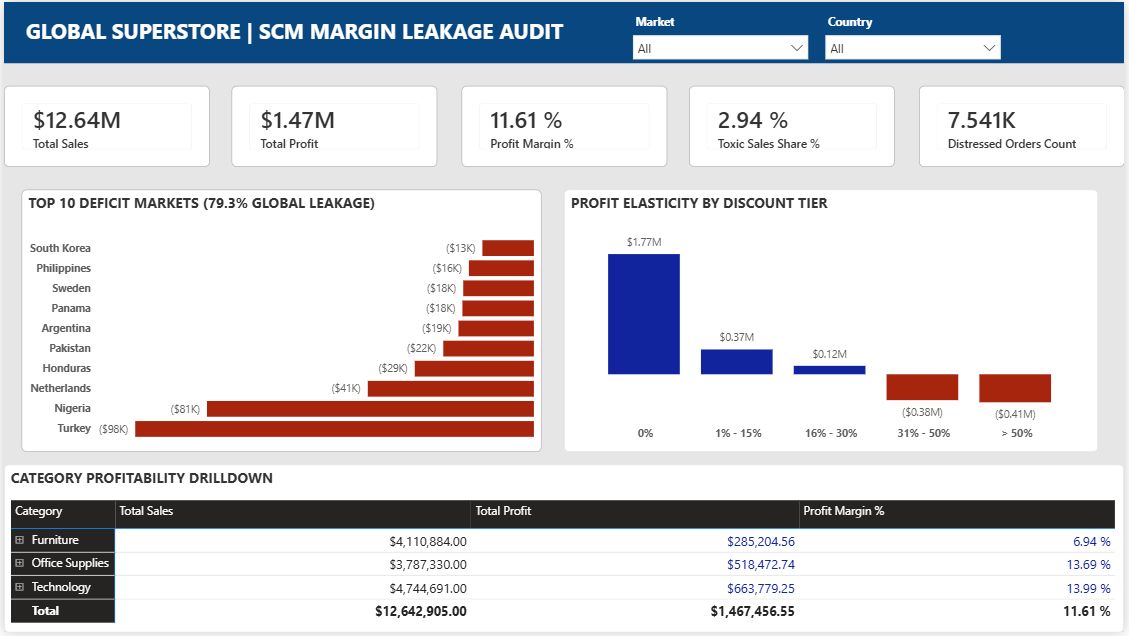

The page's visual inventory and layout, read from the dashboard file:
{"tool":"powerbi","page":{"name":"Page 1","canvas":[1280,720],"ordinal":0},"visuals":[{"type":"shape","box":[0,0,1280,70],"z":0},{"type":"textbox","box":[20,12,650,45],"z":1000},{"type":"cardVisual","fields":{"Data":["_Measures.Total Sales","_Measures.Total Sales"]},"box":[0,95,235,93],"z":2000},{"type":"cardVisual","fields":{"Data":["_Measures.Profit Margin %"]},"box":[522.5,95,235,93],"z":3000},{"type":"cardVisual","fields":{"Data":["_Measures.Distressed Orders Count"]},"box":[1045,95,235,93],"z":4000},{"type":"cardVisual","fields":{"Data":["_Measures.Toxic Sales Share %"]},"box":[782.5,95,235,93],"z":5000},{"type":"cardVisual","fields":{"Data":["_Measures.Total Profit","_Measures.Total Profit"]},"box":[260,95,235,93],"z":6000},{"type":"slicer","fields":{"Values":["vw_superstore_clean.Market"]},"box":[708,8,220,57],"z":7000},{"type":"slicer","fields":{"Values":["vw_superstore_clean.Country"]},"box":[928,8,220,57],"z":8000},{"type":"clusteredBarChart","title":"TOP 10 DEFICIT MARKETS (79.3% GLOBAL LEAKAGE)","fields":{"Y":["_Measures.Total Profit"],"Category":["vw_superstore_clean.Country"]},"box":[20,214,594,300],"z":9000},{"type":"clusteredColumnChart","title":"PROFIT ELASTICITY BY DISCOUNT TIER","fields":{"Category":["vw_superstore_clean.Discount Tier"],"Y":["_Measures.Total Profit"]},"box":[640,214,610,300],"z":10000},{"type":"pivotTable","title":"CATEGORY PROFITABILITY DRILLDOWN","fields":{"Rows":["vw_superstore_clean.Category","vw_superstore_clean.sub_category"],"Values":["_Measures.Total Sales","_Measures.Total Profit","_Measures.Profit Margin %"]},"box":[0,528,1280,192],"z":11000}]}

Visuals, with their boxes in screenshot pixels (x1, y1, x2, y2), scaled from the page's 1280x720 canvas onto the 1129x636 screenshot:
shape: {"left": 0, "top": 0, "right": 1128, "bottom": 62}
textbox: {"left": 18, "top": 11, "right": 591, "bottom": 50}
cardVisual - _Measures.Total Sales x _Measures.Total Sales: {"left": 0, "top": 84, "right": 207, "bottom": 166}
cardVisual - _Measures.Profit Margin %: {"left": 461, "top": 84, "right": 668, "bottom": 166}
cardVisual - _Measures.Distressed Orders Count: {"left": 922, "top": 84, "right": 1128, "bottom": 166}
cardVisual - _Measures.Toxic Sales Share %: {"left": 690, "top": 84, "right": 897, "bottom": 166}
cardVisual - _Measures.Total Profit x _Measures.Total Profit: {"left": 229, "top": 84, "right": 437, "bottom": 166}
slicer - vw_superstore_clean.Market: {"left": 624, "top": 7, "right": 819, "bottom": 57}
slicer - vw_superstore_clean.Country: {"left": 819, "top": 7, "right": 1013, "bottom": 57}
"TOP 10 DEFICIT MARKETS (79.3% GLOBAL LEAKAGE)" clusteredBarChart: {"left": 18, "top": 189, "right": 542, "bottom": 454}
"PROFIT ELASTICITY BY DISCOUNT TIER" clusteredColumnChart: {"left": 564, "top": 189, "right": 1103, "bottom": 454}
"CATEGORY PROFITABILITY DRILLDOWN" pivotTable: {"left": 0, "top": 466, "right": 1128, "bottom": 635}
